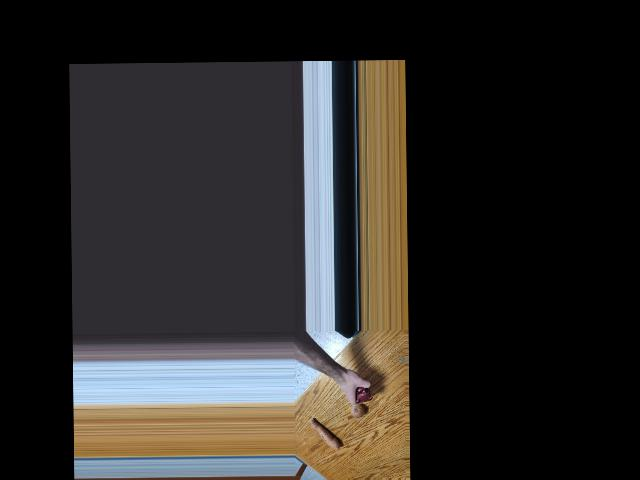onion: (349, 401, 365, 419)
